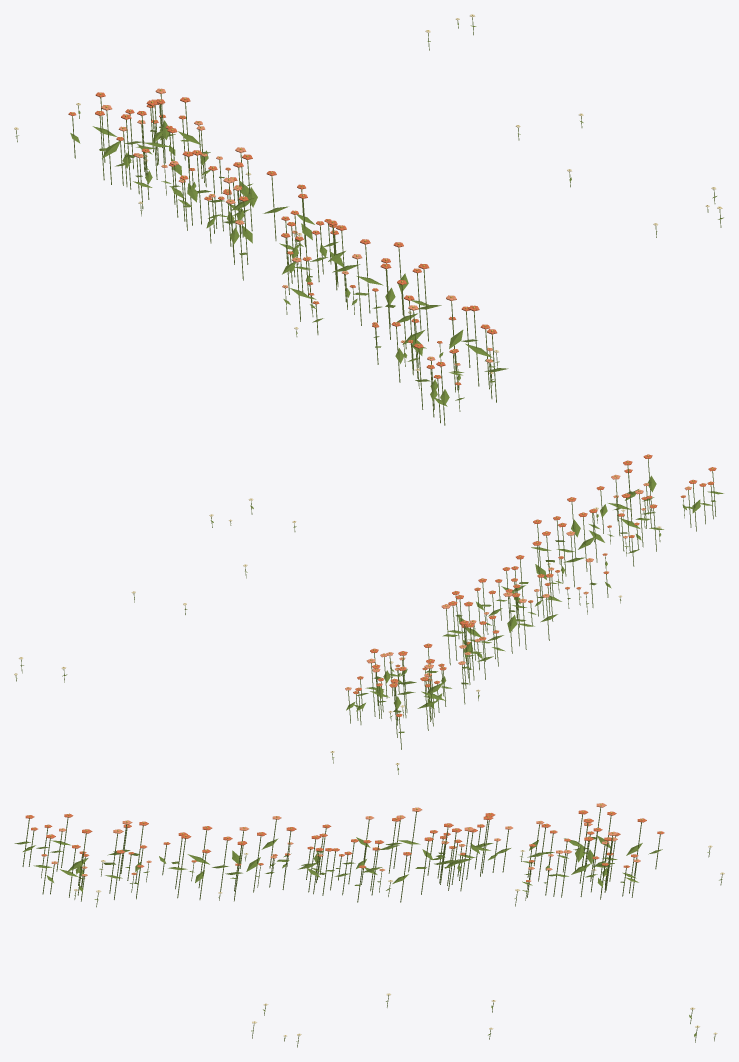
File: Meadow_OrangeCosmos_LeftBank.obj
3 renders of one model, top to bottom at view 1: azimuth 30°, elevation 25°; view 2: azimuth 150°, elevation 25°; view 3: azimuth 270°, elevation 25°, orthographic. The views are drawn at different scales.
Parts seen in each view (by area): view 1: Meadow_OrangeCosmos_LeftBank; view 2: Meadow_OrangeCosmos_LeftBank; view 3: Meadow_OrangeCosmos_LeftBank.
Part boxes in pixels (box(x1,y1,x2,y2)): Meadow_OrangeCosmos_LeftBank: box(14, 14, 723, 425); Meadow_OrangeCosmos_LeftBank: box(14, 454, 723, 774); Meadow_OrangeCosmos_LeftBank: box(14, 803, 724, 1047).
Bounding box in the file's own units: 10.03 × 1.63 × 15.57.
1 material, 1 textured.
